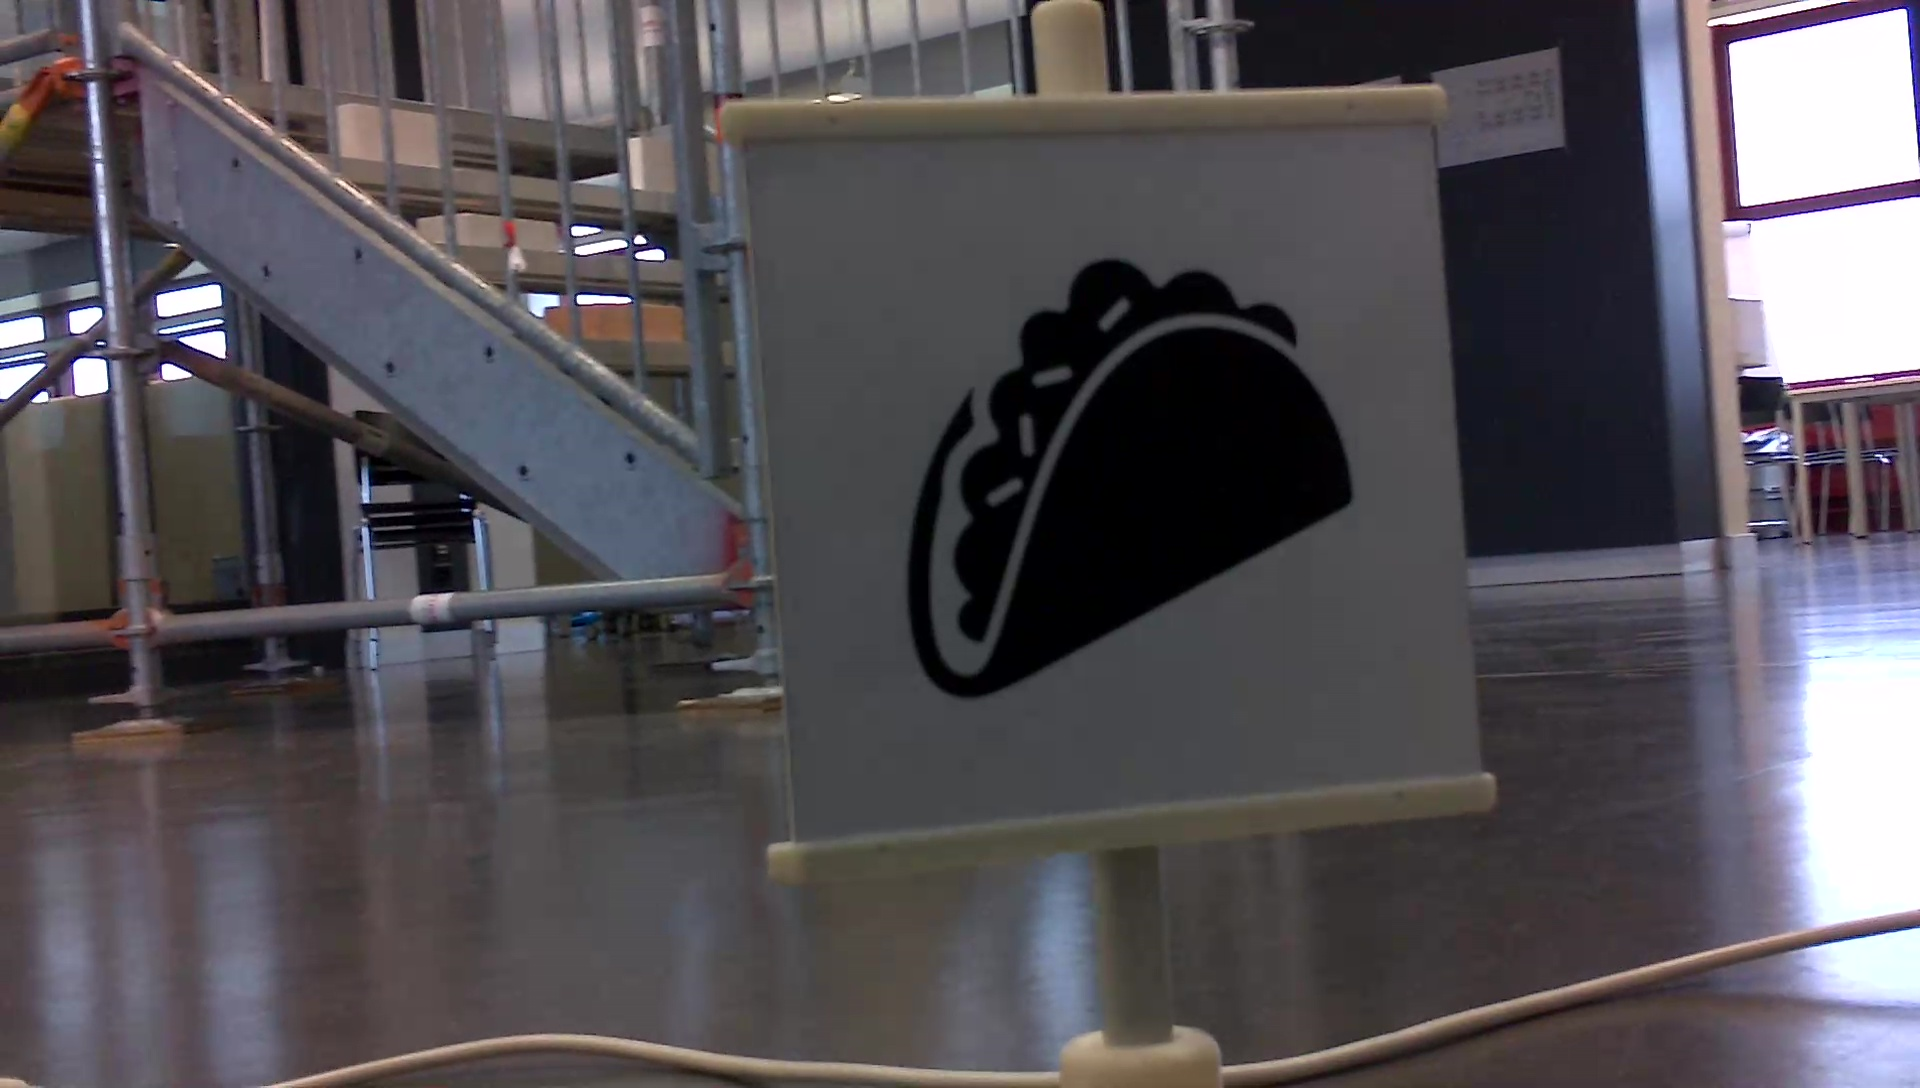taco: (882, 239, 1367, 711)
